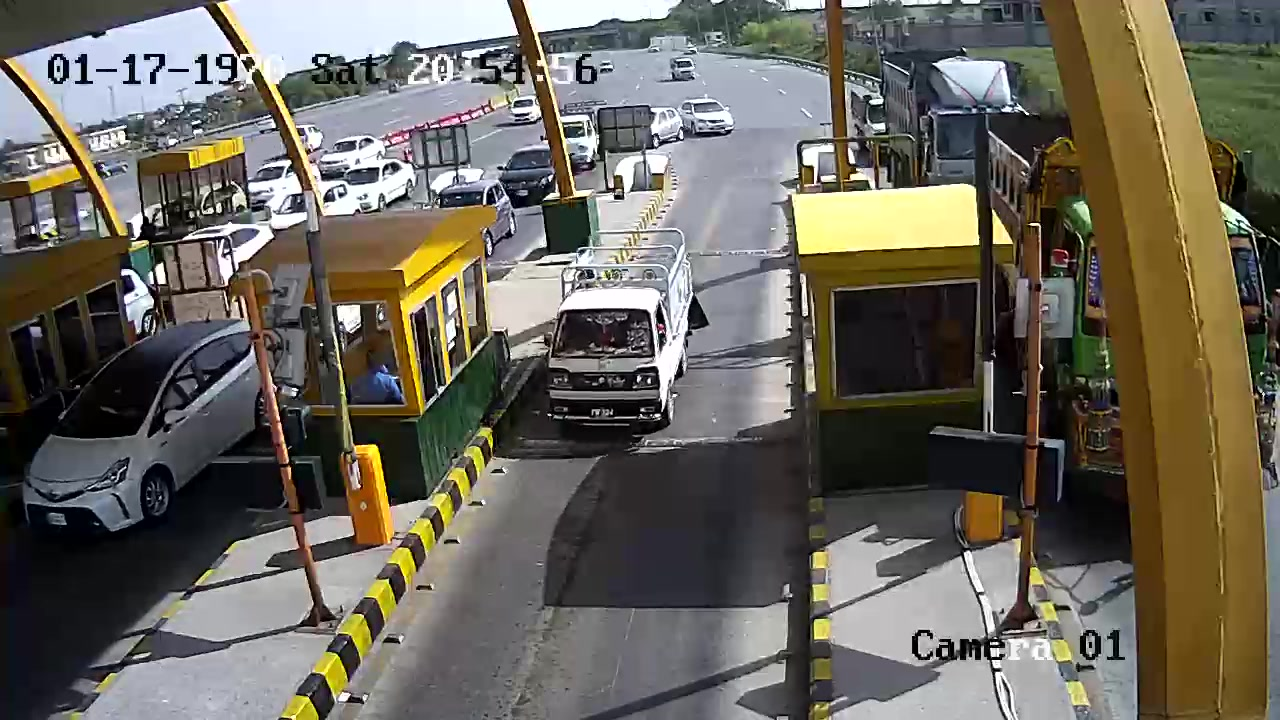F1: (537, 215, 705, 441)
